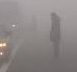person: (49, 12, 62, 56)
